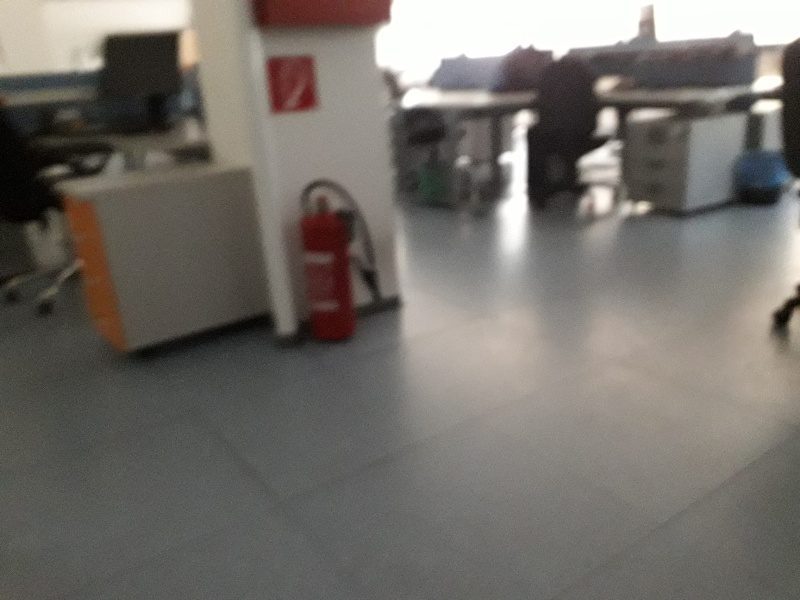vataparat: (301, 179, 380, 340)
